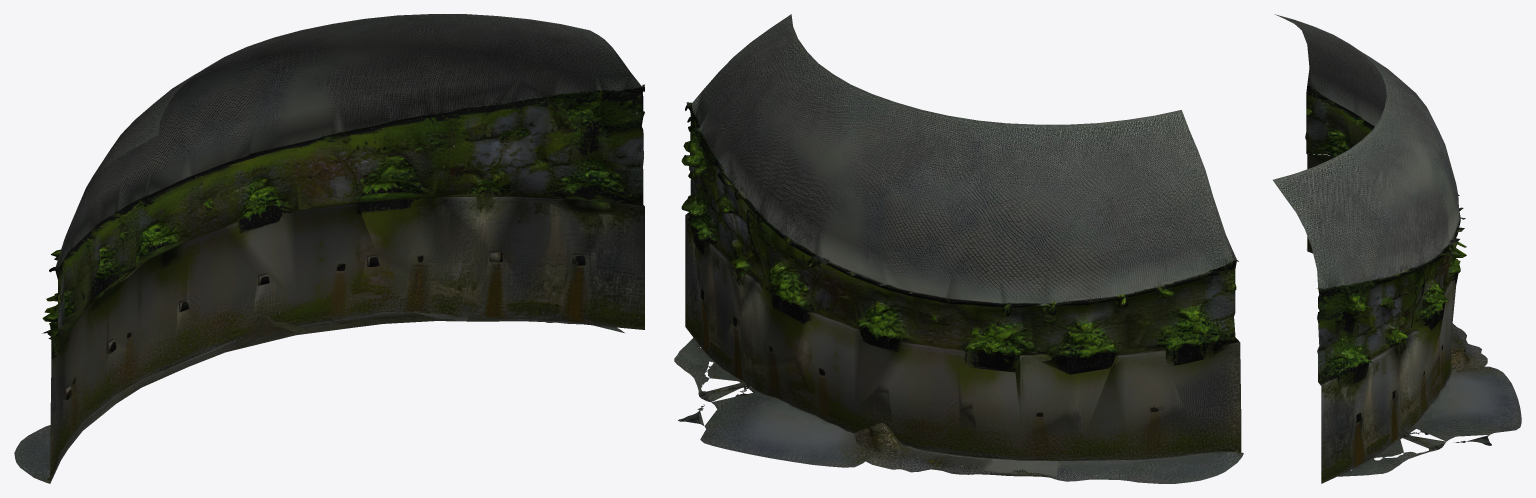
The model's file is mossy_retaining_wall.glb.
3 renders of one model, left to right at view 1: azimuth 30°, elevation 25°; view 2: azimuth 150°, elevation 25°; view 3: azimuth 270°, elevation 25°, orthographic. The views are drawn at different scales.
Visible parts, largest first — view 1: tripo_node_b9598b8f-f25c-43b6-ad3e-84429d1e70bb; view 2: tripo_node_b9598b8f-f25c-43b6-ad3e-84429d1e70bb; view 3: tripo_node_b9598b8f-f25c-43b6-ad3e-84429d1e70bb.
Part boxes in pixels (x1,y1,x2,y2): tripo_node_b9598b8f-f25c-43b6-ad3e-84429d1e70bb: (14, 14, 644, 483); tripo_node_b9598b8f-f25c-43b6-ad3e-84429d1e70bb: (674, 14, 1243, 483); tripo_node_b9598b8f-f25c-43b6-ad3e-84429d1e70bb: (1273, 14, 1521, 483).
Bounding box in the file's own units: 0.998 × 0.5371 × 0.4473.
Materials: 1 (1 with a texture image).
